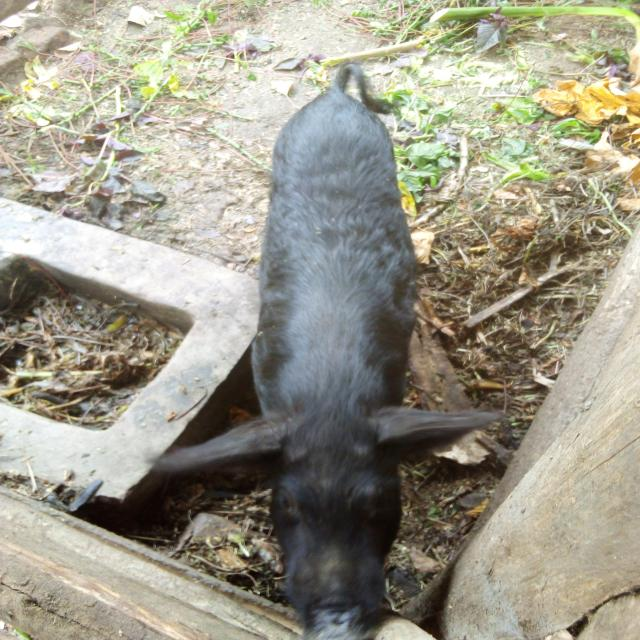pig: (123, 40, 557, 640)
